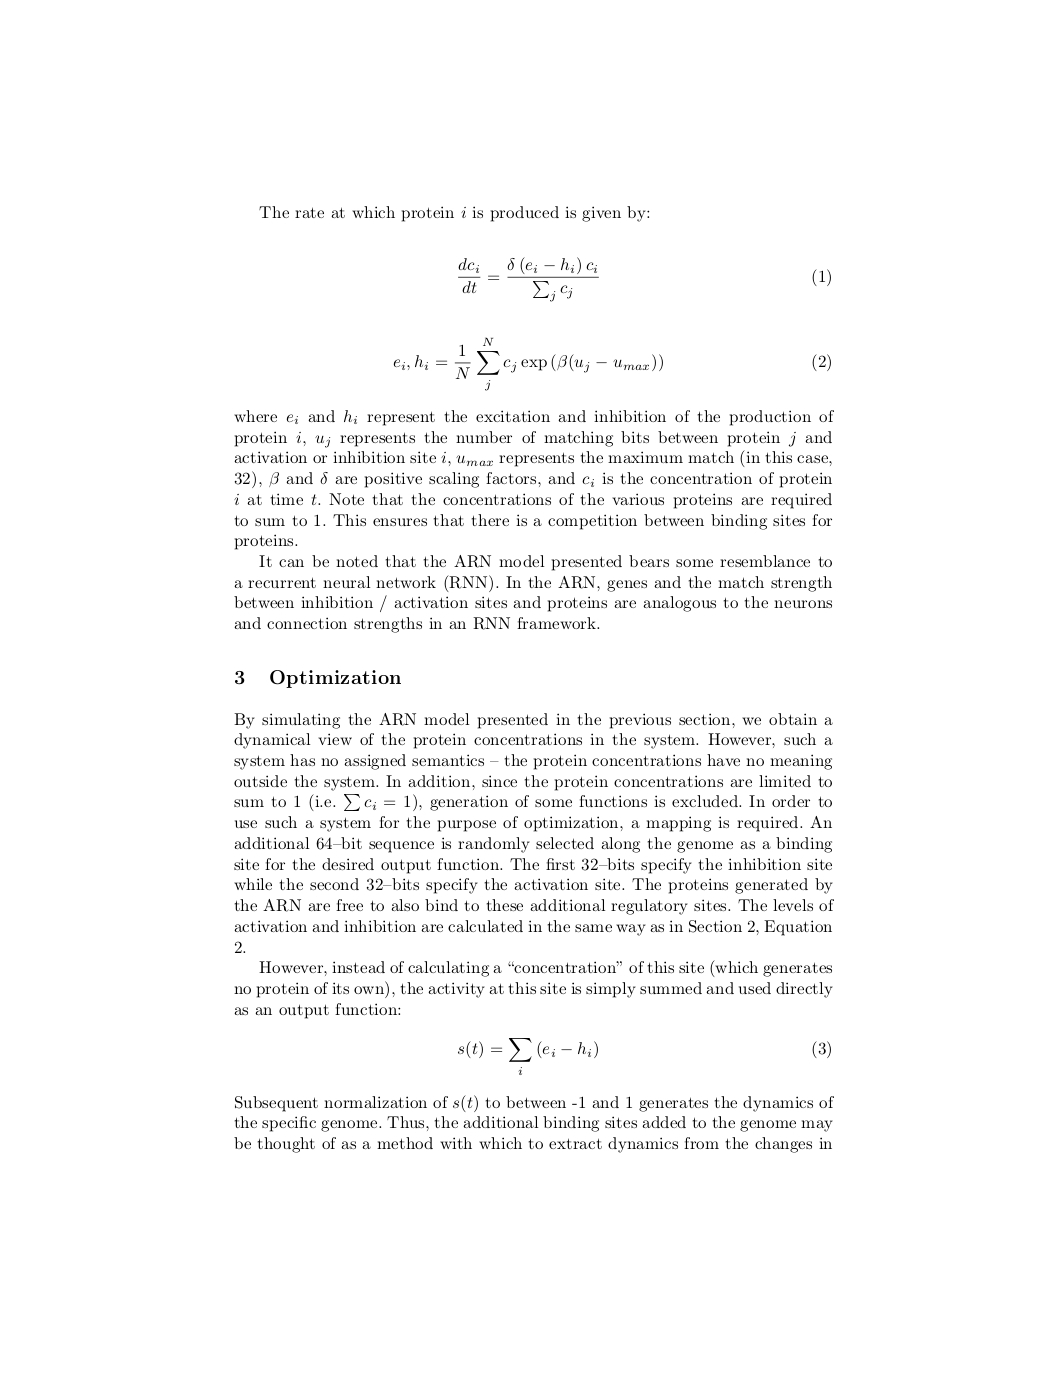formula: (393, 337, 830, 390), (458, 256, 830, 302), (458, 1038, 830, 1074)
